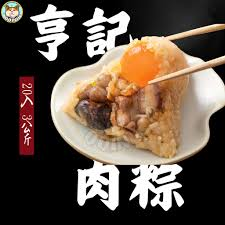zongzi: (64, 36, 188, 157)
